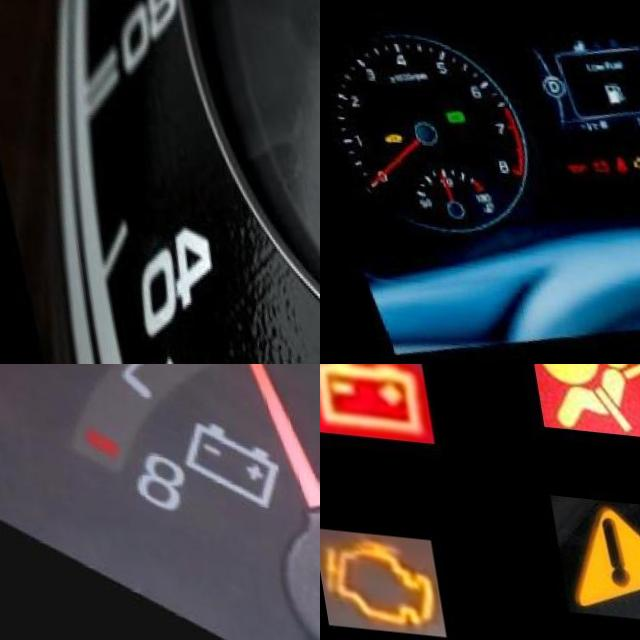Central Warning lamp: (535, 489, 640, 615)
Seat Belt: (597, 145, 615, 164)
